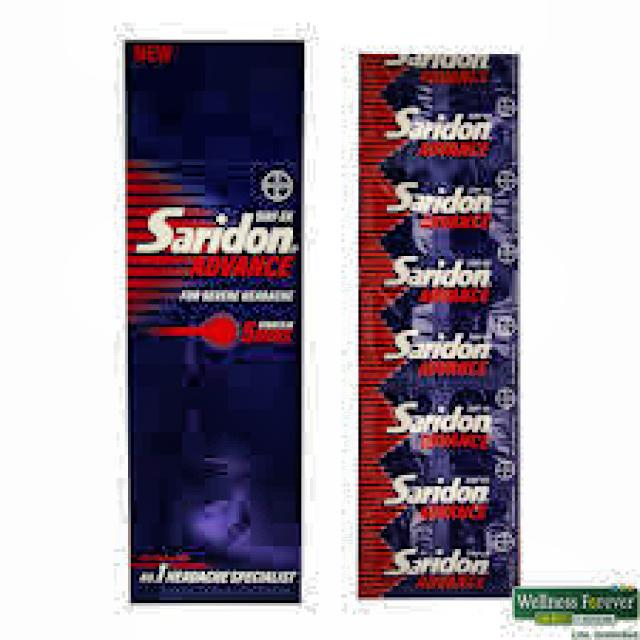Saridon: (130, 46, 302, 600), (358, 61, 511, 596)
